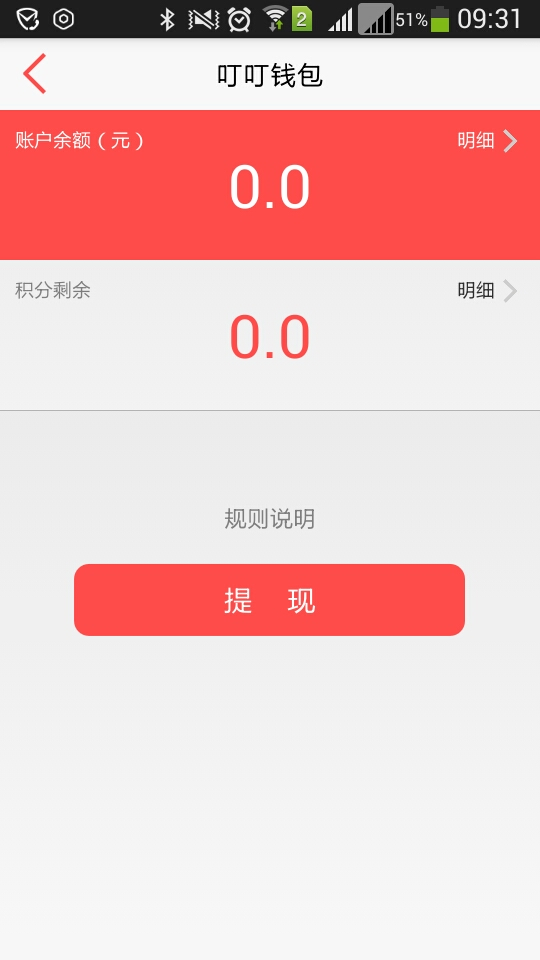textview: (2, 105, 540, 420)
